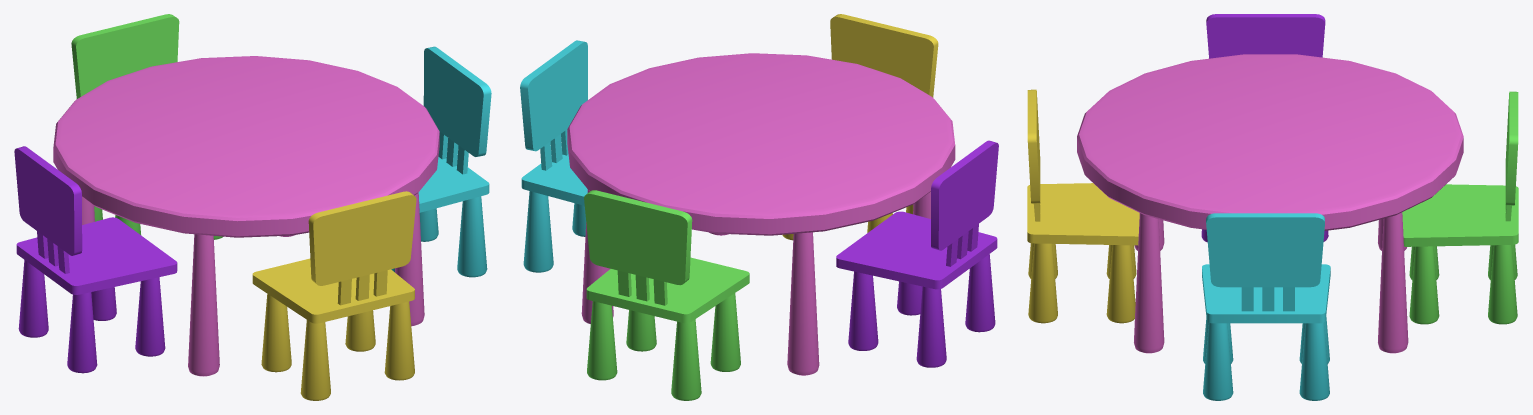
The model's file is ChairsTables.fbx.
3 views of the same model, side by side, from view 1: azimuth 30°, elevation 25°; view 2: azimuth 150°, elevation 25°; view 3: azimuth 270°, elevation 25° (orthographic).
Visible parts, largest first — view 1: Table, Chair.001, Chair.002, Chair.003, Chair; view 2: Table, Chair, Chair.002, Chair.003, Chair.001; view 3: Table, Chair.003, Chair, Chair.001, Chair.002.
Part boxes in pixels (left/top/right/bottom): Table: left=53, top=56, right=439, bottom=376; Chair.001: left=252, top=191, right=416, bottom=400; Chair.002: left=14, top=146, right=177, bottom=373; Chair.003: left=391, top=46, right=491, bottom=277; Chair: left=71, top=14, right=223, bottom=239; Table: left=567, top=53, right=955, bottom=375; Chair: left=584, top=190, right=749, bottom=400; Chair.002: left=836, top=140, right=998, bottom=367; Chair.003: left=520, top=40, right=587, bottom=272; Chair.001: left=782, top=14, right=938, bottom=240; Table: left=1077, top=54, right=1463, bottom=353; Chair.003: left=1202, top=213, right=1330, bottom=400; Chair: left=1402, top=91, right=1518, bottom=324; Chair.001: left=1027, top=89, right=1139, bottom=323; Chair.002: left=1201, top=14, right=1328, bottom=242.
Bounding box in the file's own units: 249 × 106 × 254.
